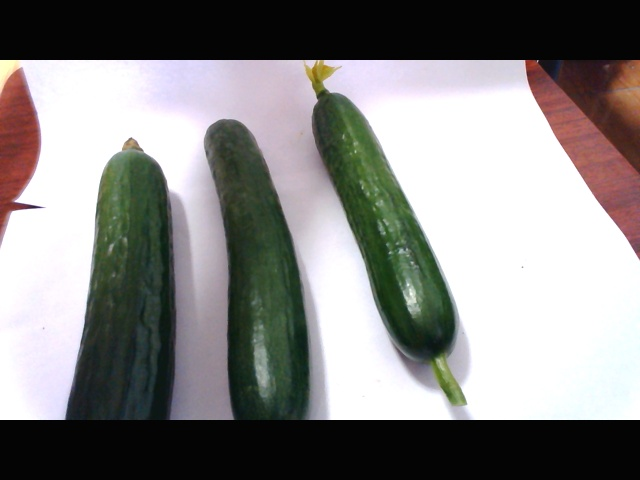cucumber: (306, 63, 471, 398), (190, 115, 312, 418), (63, 140, 176, 416)
